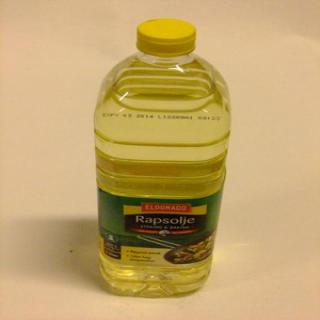Plastic-bottle: (85, 15, 239, 301)
